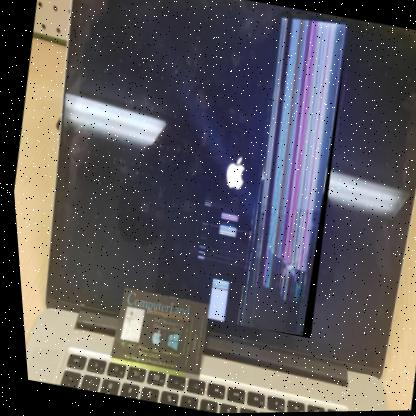lines: (220, 10, 367, 341)
